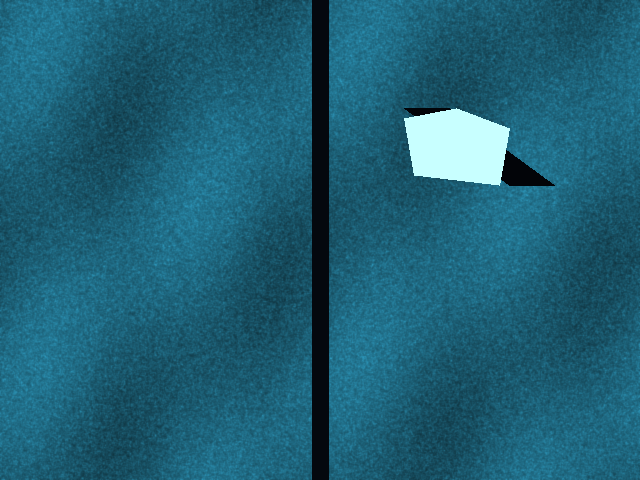Unknown Debris: (404, 108, 509, 185)
